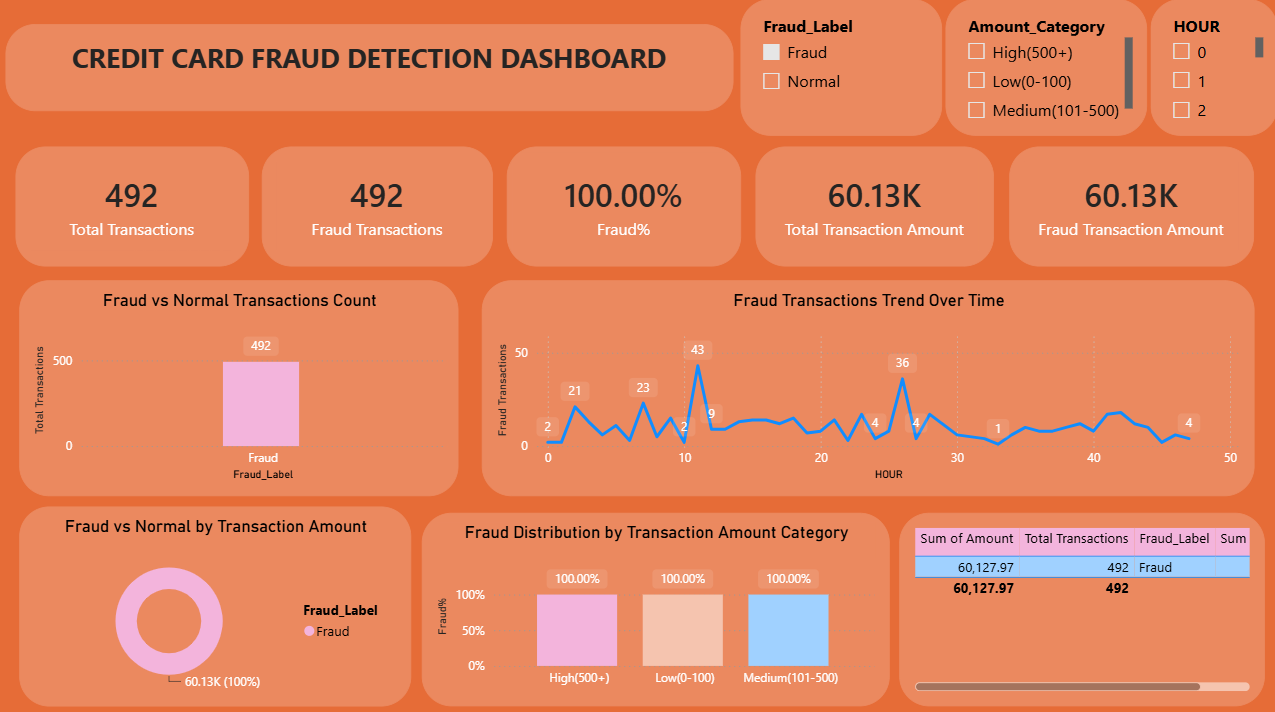

The page's visual inventory and layout, read from the dashboard file:
{"tool":"powerbi","page":{"name":"Page 1","canvas":[1280,720],"ordinal":0},"visuals":[{"type":"cardVisual","fields":{"Data":["creditcard.Total Transactions"]},"box":[17.5,147.4,233.5,119.9],"z":0},{"type":"cardVisual","fields":{"Data":["creditcard.Fraud Transactions"]},"box":[263.5,147.4,231,119.9],"z":1000},{"type":"cardVisual","fields":{"Data":["creditcard.Fraud%"]},"box":[508.3,147.4,234.8,119.9],"z":2000},{"type":"cardVisual","fields":{"Data":["creditcard.Total Transaction Amount"]},"box":[758,147.4,238.5,119.9],"z":3000},{"type":"cardVisual","fields":{"Data":["creditcard.Fraud Transaction Amount"]},"box":[1011.5,147.4,244.8,119.9],"z":4000},{"type":"clusteredColumnChart","title":"Fraud vs Normal Transactions Count","fields":{"Category":["creditcard.Fraud_Label"],"Y":["creditcard.Total Transactions"]},"box":[21.2,281,439.6,216],"z":5000},{"type":"donutChart","title":"Fraud vs Normal by Transaction Amount","fields":{"Category":["creditcard.Fraud_Label"],"Y":["Sum(creditcard.Amount)"]},"box":[21.2,507,392.1,199.8],"z":6000},{"type":"lineChart","title":"Fraud Transactions Trend Over Time","fields":{"Category":["creditcard.HOUR"],"Y":["creditcard.Fraud Transactions"]},"box":[483.3,281,773,216],"z":7000},{"type":"columnChart","title":"Fraud Distribution by Transaction Amount Category","fields":{"Category":["creditcard.Amount_Category"],"Y":["creditcard.Fraud%"]},"box":[423.3,513.2,468.3,193.6],"z":8000},{"type":"tableEx","fields":{"Values":["Sum(creditcard.Amount)","creditcard.Total Transactions","creditcard.Fraud_Label","Sum(creditcard.HOUR)"]},"box":[901.6,513.2,365.9,193.6],"z":9000},{"type":"textbox","box":[7.5,25,727.6,87.1],"z":10000},{"type":"slicer","fields":{"Values":["creditcard.Fraud_Label"]},"box":[743,0,201.7,136.5],"z":11000},{"type":"slicer","fields":{"Values":["creditcard.Amount_Category"]},"box":[947.7,0,201.7,136.5],"z":12000},{"type":"slicer","fields":{"Values":["creditcard.HOUR"]},"box":[1152.4,0,127.4,136.5],"z":13000}]}

Visuals, with their boxes in screenshot pixels (x1, y1, x2, y2), scaled from the page's 1280x720 canvas onto the 1275x712 screenshot:
cardVisual - creditcard.Total Transactions: (17, 146, 250, 264)
cardVisual - creditcard.Fraud Transactions: (262, 146, 493, 264)
cardVisual - creditcard.Fraud%: (506, 146, 740, 264)
cardVisual - creditcard.Total Transaction Amount: (755, 146, 993, 264)
cardVisual - creditcard.Fraud Transaction Amount: (1008, 146, 1251, 264)
"Fraud vs Normal Transactions Count" clusteredColumnChart: (21, 278, 459, 491)
"Fraud vs Normal by Transaction Amount" donutChart: (21, 501, 412, 699)
"Fraud Transactions Trend Over Time" lineChart: (481, 278, 1251, 491)
"Fraud Distribution by Transaction Amount Category" columnChart: (422, 507, 888, 699)
tableEx - Sum(creditcard.Amount) x creditcard.Total Transactions: (898, 507, 1263, 699)
textbox: (7, 25, 732, 111)
slicer - creditcard.Fraud_Label: (740, 0, 941, 135)
slicer - creditcard.Amount_Category: (944, 0, 1145, 135)
slicer - creditcard.HOUR: (1148, 0, 1274, 135)
